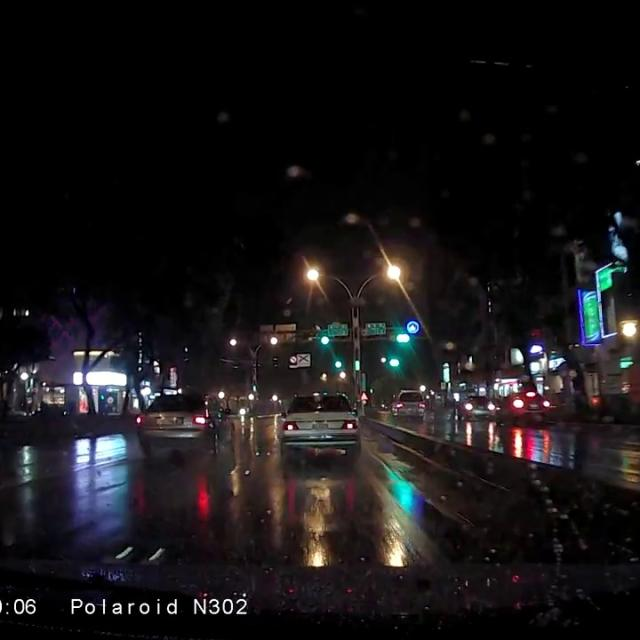Car: (136, 390, 238, 453), (275, 389, 361, 460), (495, 385, 558, 427), (449, 391, 501, 424), (390, 386, 427, 424)
